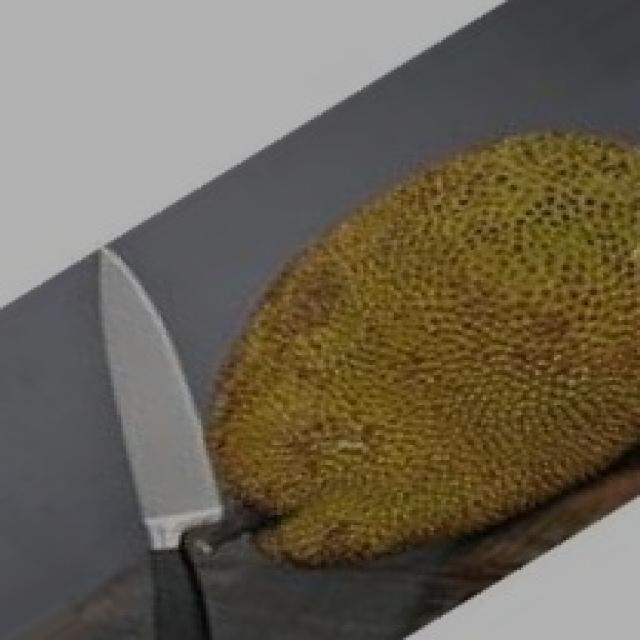Fruit: (203, 92, 637, 462)
